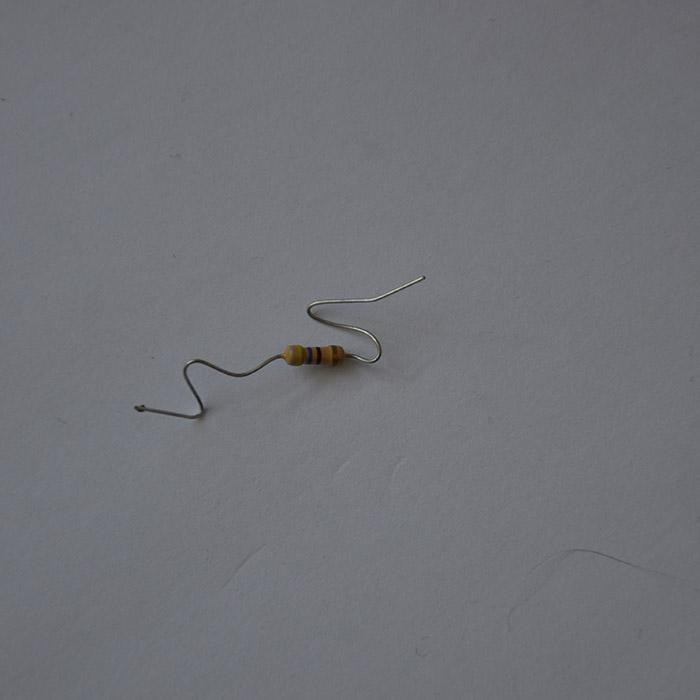resistor: (332, 282, 355, 345)
